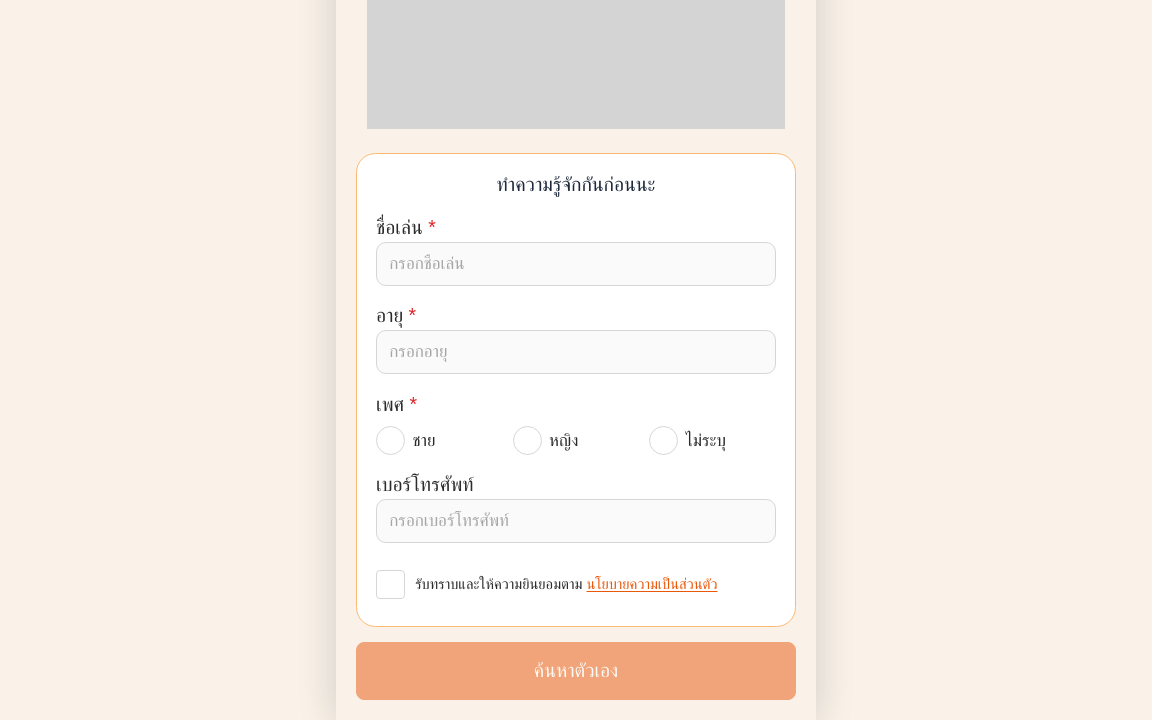
Scenario: RegisterScreen › opens and closes the privacy policy dialog
(page scrolled)
Click the button "นโยบายความเป็นส่วนตัว" at (652, 585), box x1=586 y1=574 x2=717 y2=595
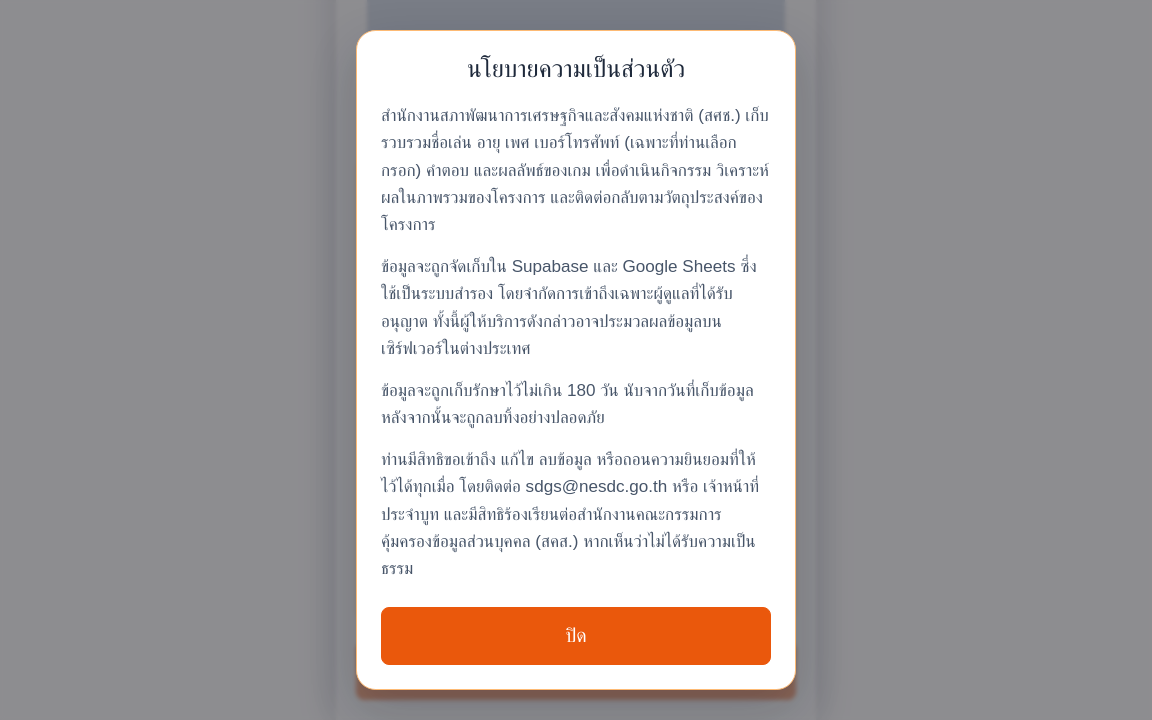
Now the dialog "นโยบายความเป็นส่วนตัว" is shown, box x1=356 y1=30 x2=796 y2=690
Now the text "Supabase และ Google Sheets" is shown, box x1=381 y1=257 x2=756 y2=358
Now the text "ไม่เกิน 180 วัน" is shown, box x1=381 y1=381 x2=754 y2=427
Click the button "ปิด" at (576, 636), box x1=381 y1=607 x2=771 y2=665
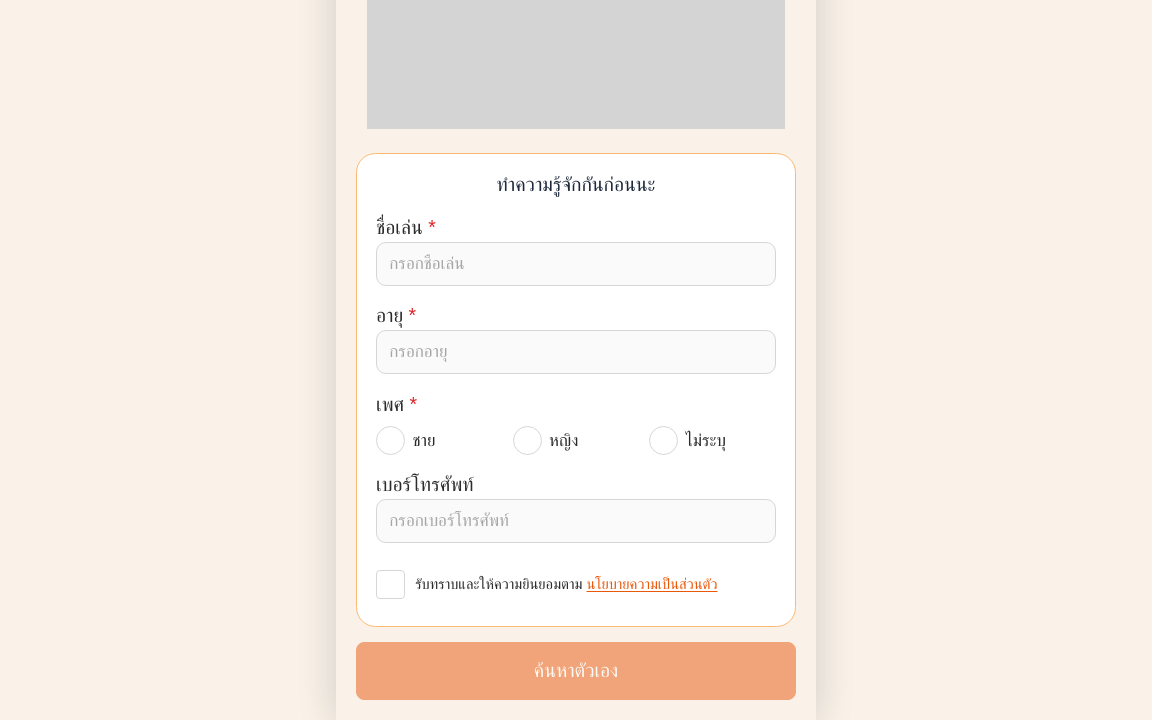
Now the dialog is gone
